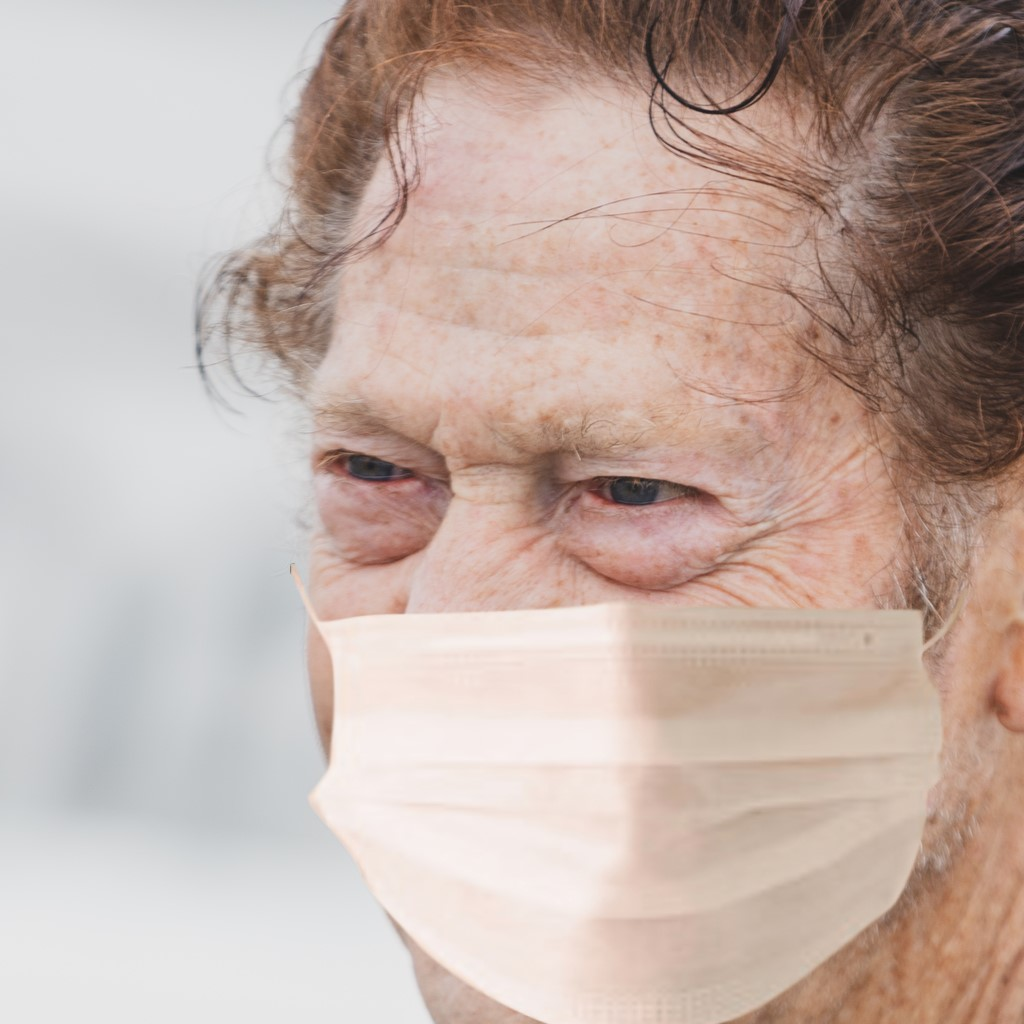con_mascara: (318, 25, 967, 997)
